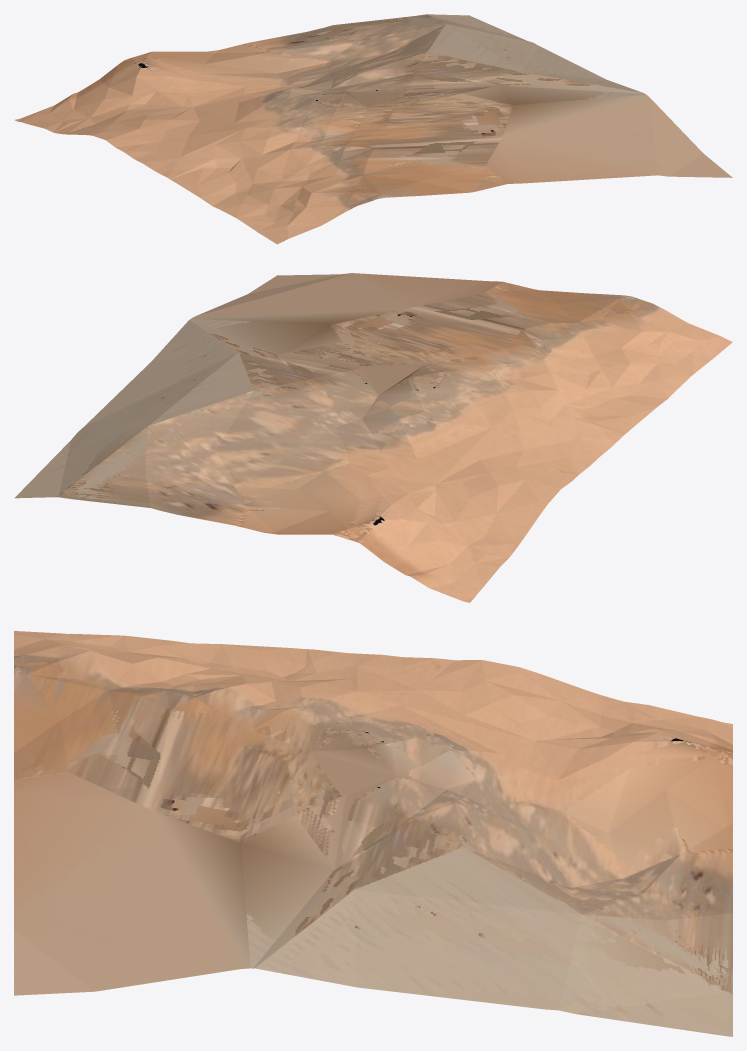
3 views of the same model, one above another, from view 1: azimuth 30°, elevation 25°; view 2: azimuth 150°, elevation 25°; view 3: azimuth 270°, elevation 25° (orthographic). The views are drawn at different scales.
Size of the model in its own units: 1.04 by 0.2096 by 1.04.
Materials: 3 (3 with a texture image).
